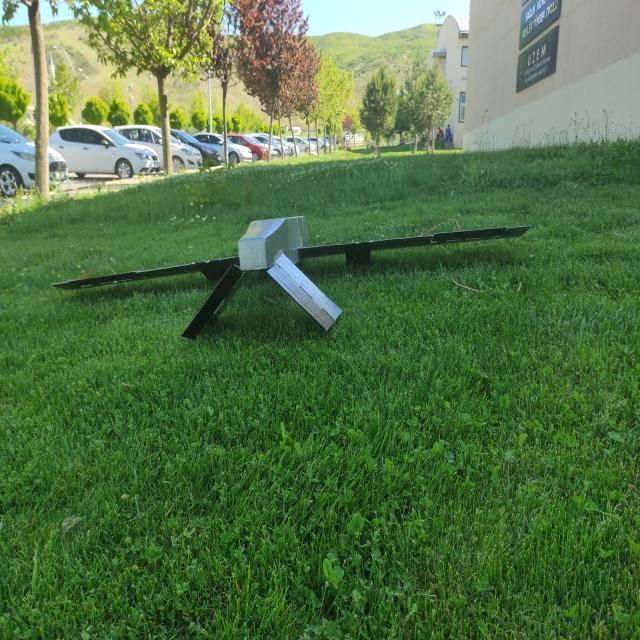iha: (48, 200, 535, 345)
